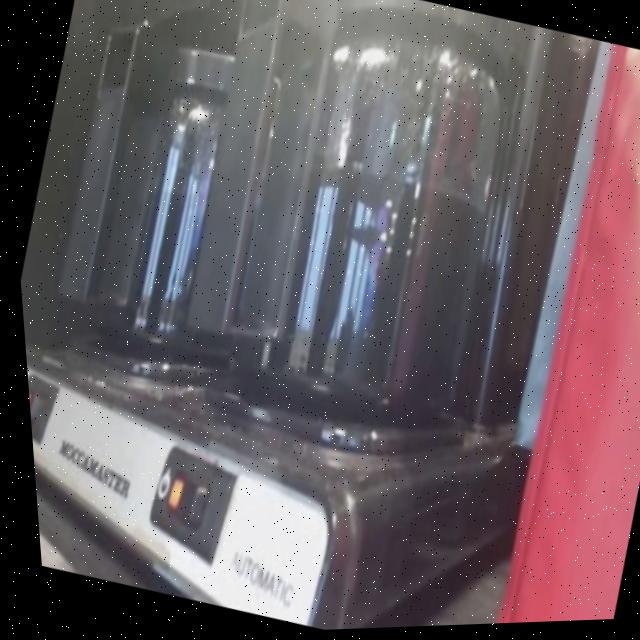coffee: (156, 0, 568, 465), (36, 0, 321, 397)
